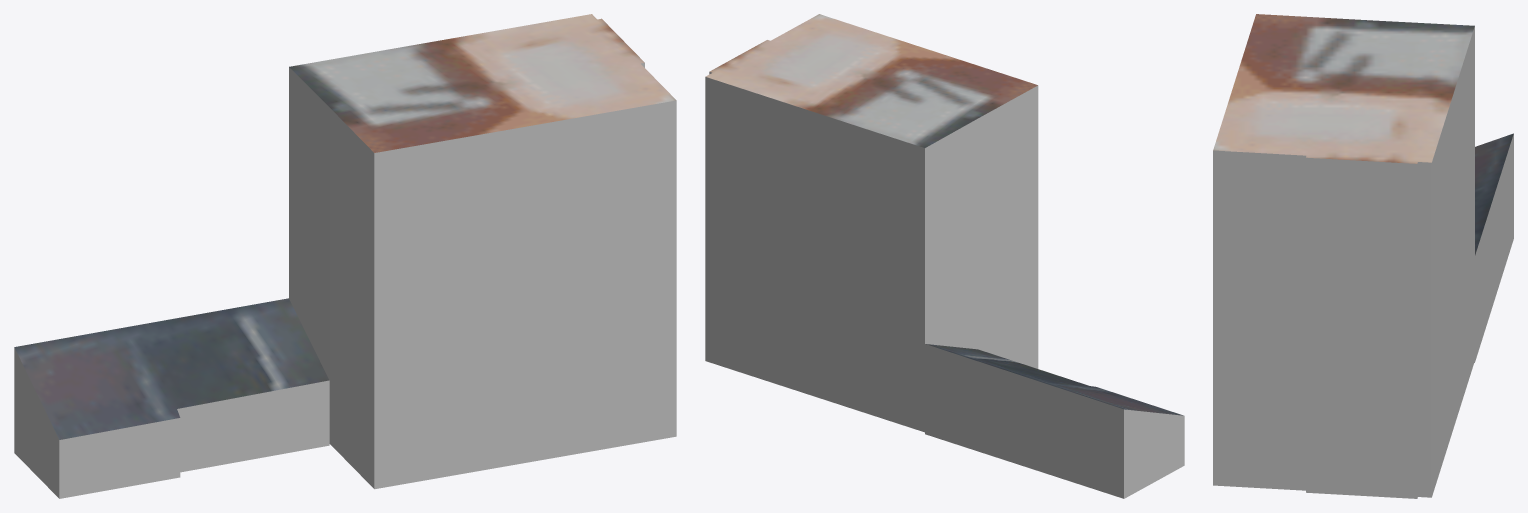
File: DEBW_0010007Tx4P.gltf
The picture shows the model from 3 angles, left to right: view 1: azimuth 30°, elevation 25°; view 2: azimuth 150°, elevation 25°; view 3: azimuth 270°, elevation 25°; orthographic projection. The views are drawn at different scales.
Parts seen in each view (by area): view 1: Z_UP; view 2: Z_UP; view 3: Z_UP.
Part boxes in pixels (x1=…): Z_UP: x1=14, y1=14, x2=676, y2=498; Z_UP: x1=705, y1=14, x2=1184, y2=498; Z_UP: x1=1213, y1=14, x2=1513, y2=498.
Size of the model in its own units: 23.77 by 13.91 by 11.25.
Materials: 2 (1 with a texture image).
